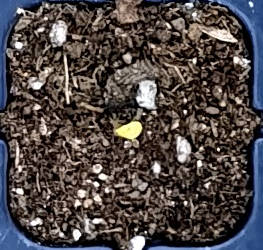pepper seed: (41, 51, 185, 191)
